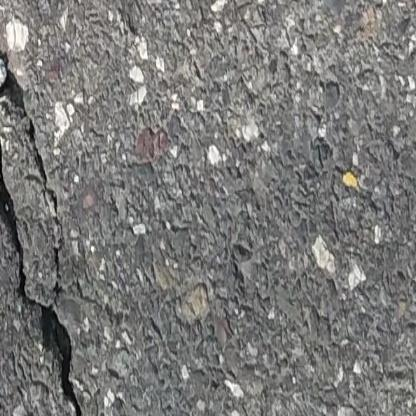Cracks: (0, 17, 91, 416)
